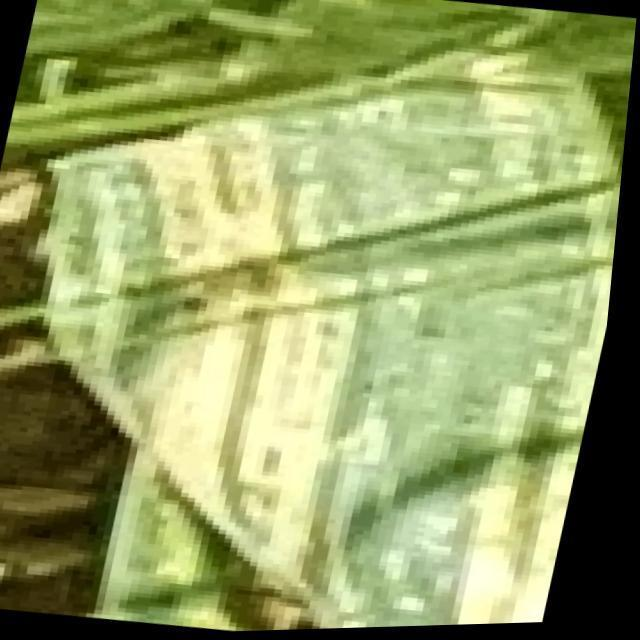Yellow Rust: (23, 42, 548, 602)
